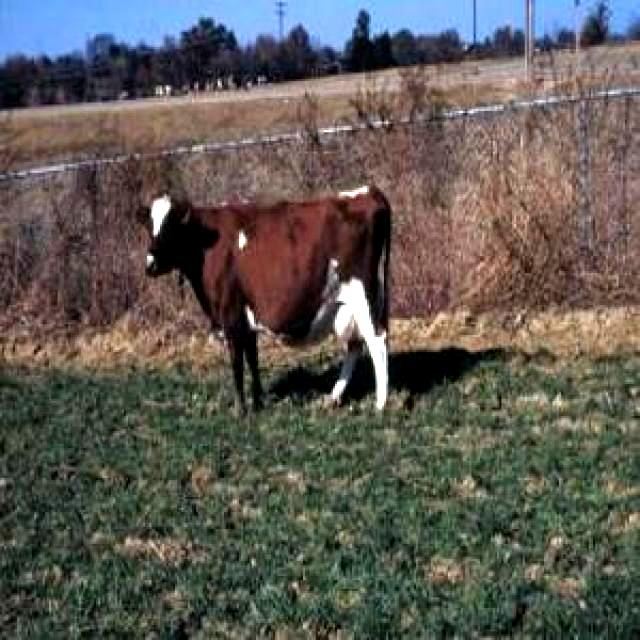COW: (146, 189, 391, 411)
